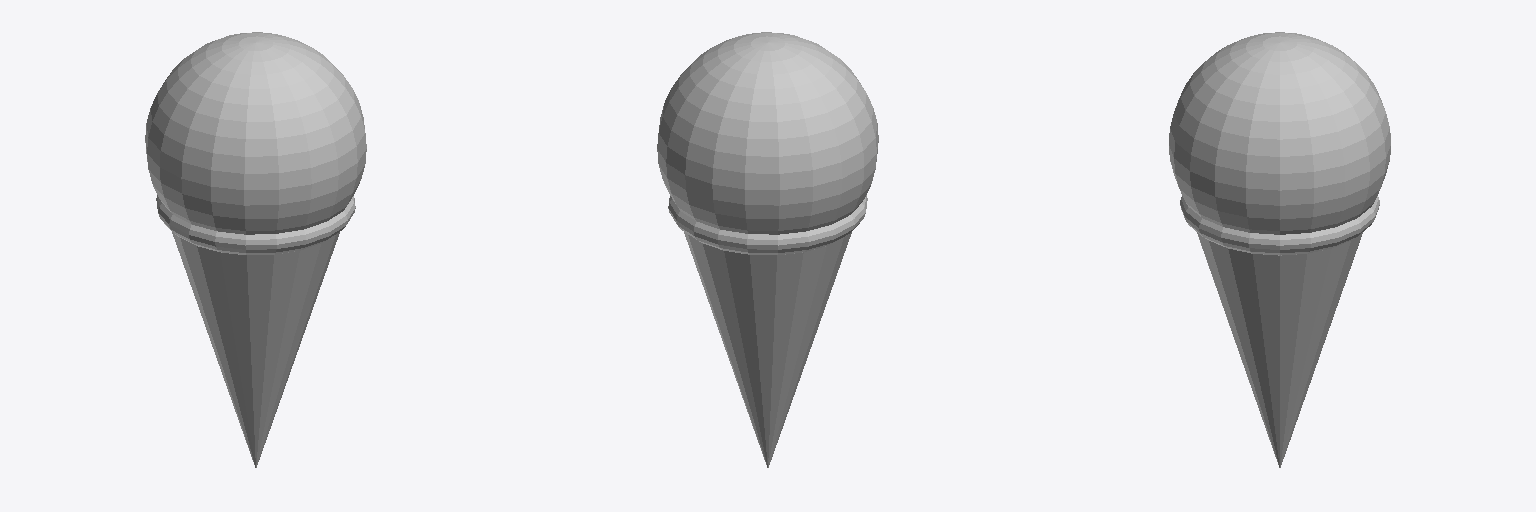
The model's file is iceCreamCone.obj.
The picture shows the model from 3 angles: view 1: azimuth 30°, elevation 25°; view 2: azimuth 150°, elevation 25°; view 3: azimuth 270°, elevation 25°; orthographic projection.
Bounding box in the file's own units: 0.9609 × 2.03 × 0.9609.